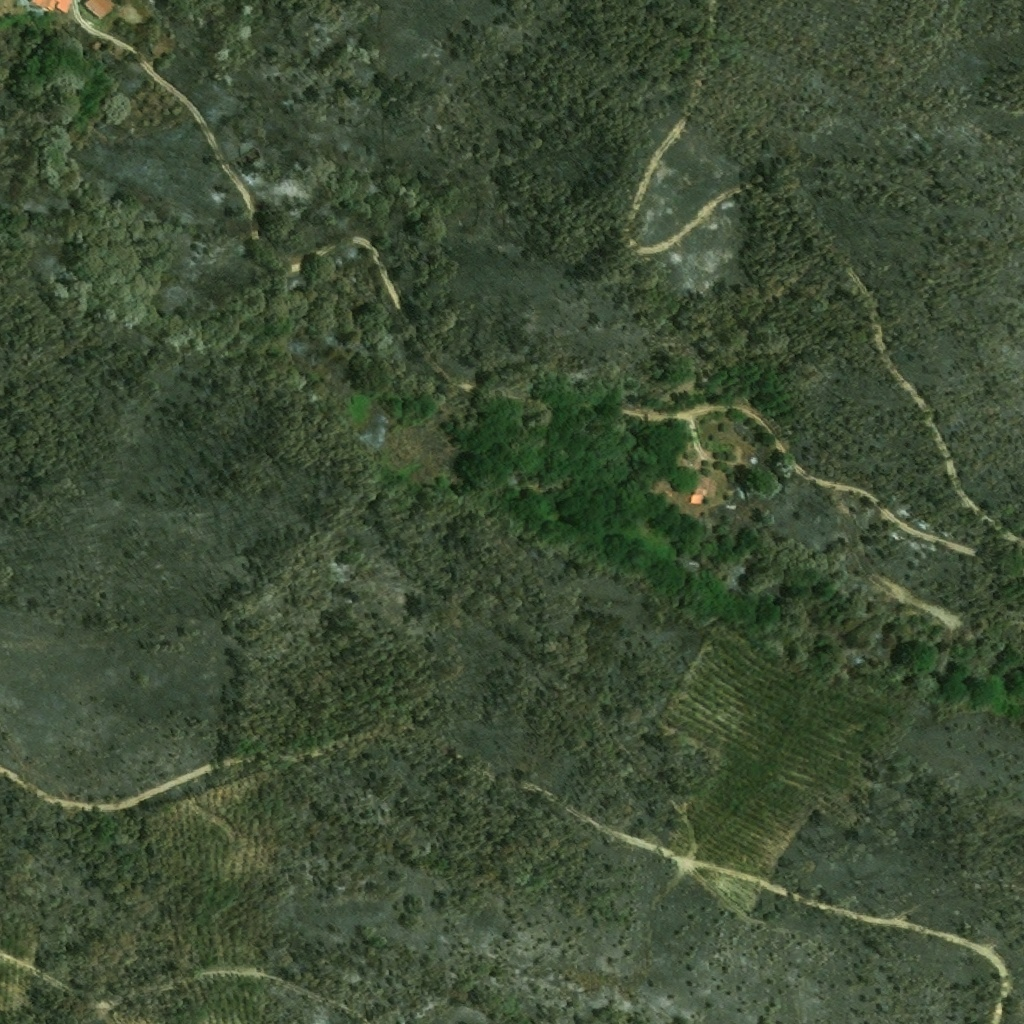0 no-damage: (688, 495, 701, 505)
4 un-classified: (81, 0, 117, 20), (29, 0, 72, 15)
